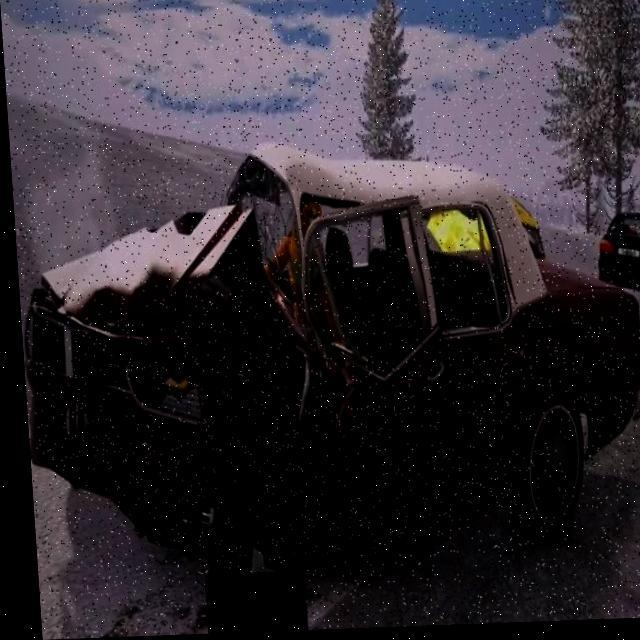single accident: (66, 156, 563, 467)
